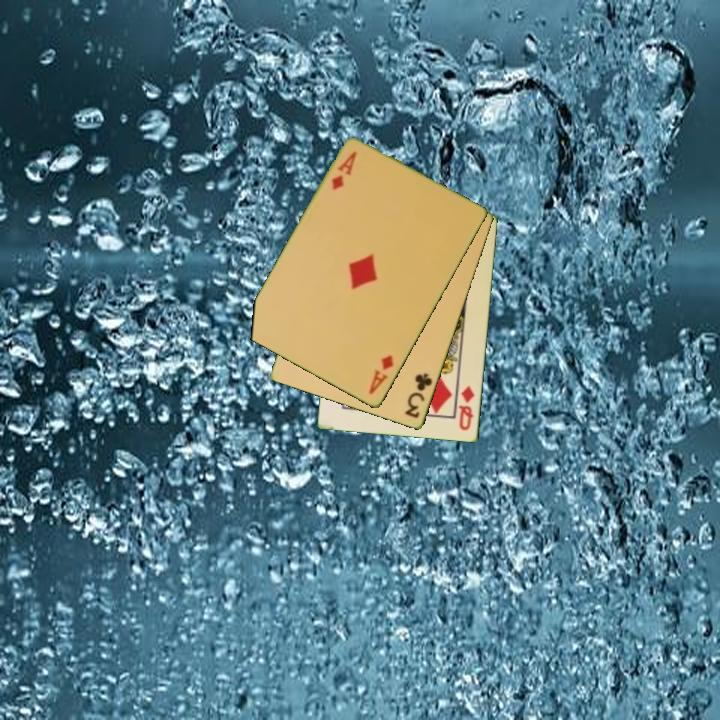3c: (402, 370, 435, 421)
Ad: (365, 352, 397, 398), (328, 148, 360, 194)
Qd: (456, 383, 477, 434)
